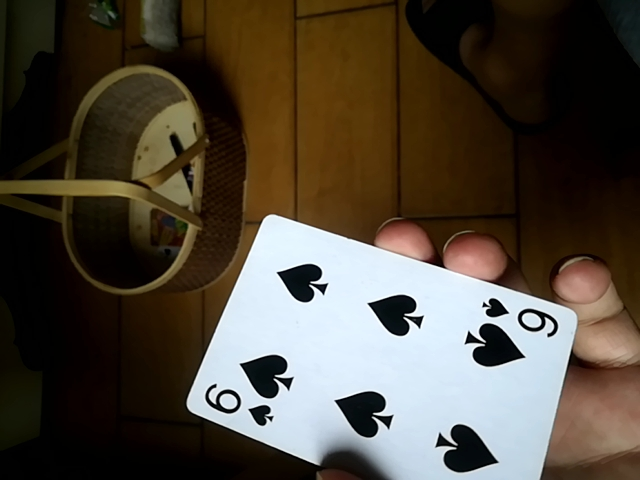ht 6: (186, 211, 580, 476)
